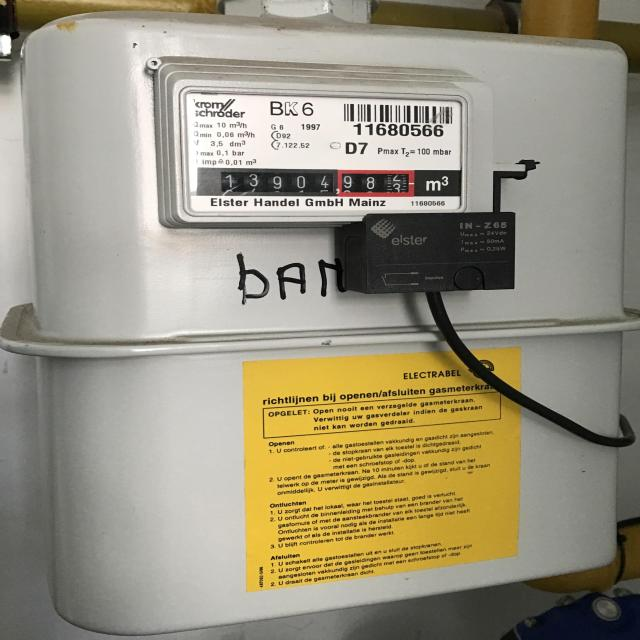gaz_meter: (172, 87, 464, 219)
indication: (198, 168, 423, 197)
